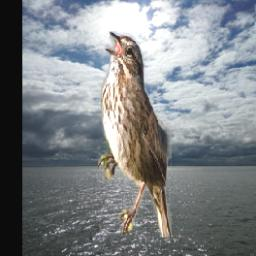Sparrow: (98, 31, 172, 237)
